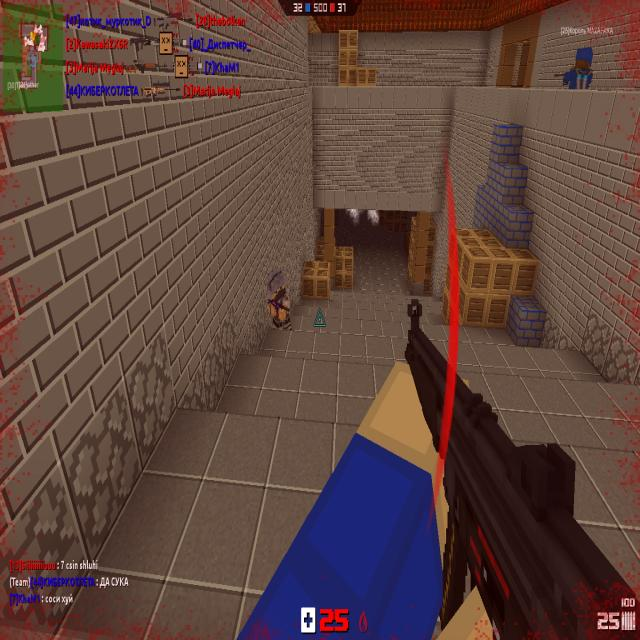enemy: (266, 267, 292, 330)
